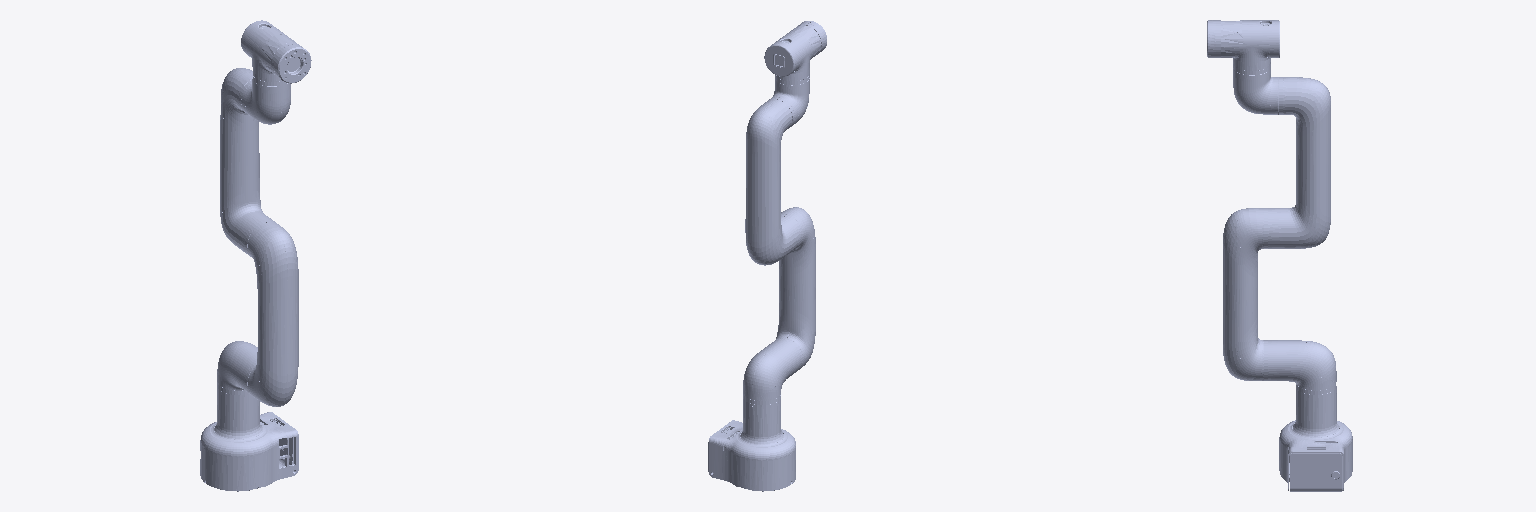
The robot description file, URDF, robot "test_robot":
<?xml version="1.0" encoding="utf-8"?>
<!-- This URDF was automatically created by SolidWorks to URDF Exporter! Originally created by [author] ([email redacted]) 
     Commit Version: 1.6.0-4-g7f85cfe  Build Version: 1.6.7995.38578
     For more information, please see http://wiki.ros.org/sw_urdf_exporter -->
<robot
  name="test_robot">
  <link
    name="base">
    <inertial>
      <origin
        xyz="0.0059247 0.00038939 0.081233"
        rpy="0 0 0" />
      <mass
        value="0.64986" />
      <inertia
        ixx="0.0016013"
        ixy="-8.3465E-06"
        ixz="-6.8717E-05"
        iyy="0.0015167"
        iyz="5.7288E-07"
        izz="0.00094318" />
    </inertial>
    <visual>
      <origin
        xyz="0 0 0"
        rpy="0 0 0" />
      <geometry>
        <mesh
          filename="package://test_robot/meshes/base.STL" />
      </geometry>
      <material
        name="">
        <color
          rgba="0.79216 0.81961 0.93333 1" />
      </material>
    </visual>
    <collision>
      <origin
        xyz="0 0 0"
        rpy="0 0 0" />
      <geometry>
        <mesh
          filename="package://test_robot/meshes/base.STL" />
      </geometry>
    </collision>
  </link>
  <link
    name="link1">
    <inertial>
      <origin
        xyz="2.4493E-06 -0.031713 0.033046"
        rpy="0 0 0" />
      <mass
        value="0.23299" />
      <inertia
        ixx="0.00035206"
        ixy="2.8167E-08"
        ixz="-6.371E-09"
        iyy="0.00022967"
        iyz="5.3618E-05"
        izz="0.00033368" />
    </inertial>
    <visual>
      <origin
        xyz="0 0 0"
        rpy="0 0 0" />
      <geometry>
        <mesh
          filename="package://test_robot/meshes/link1.STL" />
      </geometry>
      <material
        name="">
        <color
          rgba="0.79216 0.81961 0.93333 1" />
      </material>
    </visual>
    <collision>
      <origin
        xyz="0 0 0"
        rpy="0 0 0" />
      <geometry>
        <mesh
          filename="package://test_robot/meshes/link1.STL" />
      </geometry>
    </collision>
  </link>
  <joint
    name="joint1"
    type="revolute">
    <origin
      xyz="0.0010791 0 0.1691"
      rpy="0 0 0" />
    <parent
      link="base" />
    <child
      link="link1" />
    <axis
      xyz="0 0 1" />
    <limit
      lower="0"
      upper="6.28"
      effort="1000"
      velocity="0" />
  </joint>
  <link
    name="link2">
    <inertial>
      <origin
        xyz="1.6533223458829E-06 -0.0377616290355559 0.125416438182743"
        rpy="0 0 0" />
      <mass
        value="0.46702438959036" />
      <inertia
        ixx="0.00331762125145106"
        ixy="-1.59317816274483E-08"
        ixz="-6.28906986662299E-08"
        iyy="0.00339461312876504"
        iyz="1.29421863702007E-07"
        izz="0.00029498048933846" />
    </inertial>
    <visual>
      <origin
        xyz="0 0 0"
        rpy="0 0 0" />
      <geometry>
        <mesh
          filename="package://test_robot/meshes/link2.STL" />
      </geometry>
      <material
        name="">
        <color
          rgba="0.792156862745098 0.819607843137255 0.933333333333333 1" />
      </material>
    </visual>
    <collision>
      <origin
        xyz="0 0 0"
        rpy="0 0 0" />
      <geometry>
        <mesh
          filename="package://test_robot/meshes/link2.STL" />
      </geometry>
    </collision>
  </link>
  <joint
    name="joint2"
    type="revolute">
    <origin
      xyz="0 -0.0893 0.0402"
      rpy="0 0 0" />
    <parent
      link="link1" />
    <child
      link="link2" />
    <axis
      xyz="0 1 0" />
    <limit
      lower="0"
      upper="6.28"
      effort="1000"
      velocity="0" />
  </joint>
  <link
    name="link3">
    <inertial>
      <origin
        xyz="0.00019825 0.06618 0.12811"
        rpy="0 0 0" />
      <mass
        value="0.61092" />
      <inertia
        ixx="0.0039774"
        ixy="-3.3766E-07"
        ixz="-1.3377E-05"
        iyy="0.0040447"
        iyz="-0.00016327"
        izz="0.00034377" />
    </inertial>
    <visual>
      <origin
        xyz="0 0 0"
        rpy="0 0 0" />
      <geometry>
        <mesh
          filename="package://test_robot/meshes/link3.STL" />
      </geometry>
      <material
        name="">
        <color
          rgba="0.79216 0.81961 0.93333 1" />
      </material>
    </visual>
    <collision>
      <origin
        xyz="0 0 0"
        rpy="0 0 0" />
      <geometry>
        <mesh
          filename="package://test_robot/meshes/link3.STL" />
      </geometry>
    </collision>
  </link>
  <joint
    name="joint3"
    type="revolute">
    <origin
      xyz="0 0.0077997 0.25"
      rpy="0 0 0" />
    <parent
      link="link2" />
    <child
      link="link3" />
    <axis
      xyz="0 1 0" />
    <limit
      lower="0"
      upper="6.28"
      effort="1000"
      velocity="0" />
  </joint>
  <link
    name="link4">
    <inertial>
      <origin
        xyz="-0.00045113 -0.042013 0.019705"
        rpy="0 0 0" />
      <mass
        value="0.14393" />
      <inertia
        ixx="7.662E-05"
        ixy="-1.0863E-07"
        ixz="6.1731E-07"
        iyy="6.5183E-05"
        iyz="5.4312E-06"
        izz="9.6955E-05" />
    </inertial>
    <visual>
      <origin
        xyz="0 0 0"
        rpy="0 0 0" />
      <geometry>
        <mesh
          filename="package://test_robot/meshes/link4.STL" />
      </geometry>
      <material
        name="">
        <color
          rgba="0.79216 0.81961 0.93333 1" />
      </material>
    </visual>
    <collision>
      <origin
        xyz="0 0 0"
        rpy="0 0 0" />
      <geometry>
        <mesh
          filename="package://test_robot/meshes/link4.STL" />
      </geometry>
    </collision>
  </link>
  <joint
    name="joint4"
    type="revolute">
    <origin
      xyz="0 0.0175 0.25"
      rpy="0 0 0" />
    <parent
      link="link3" />
    <child
      link="link4" />
    <axis
      xyz="0 1 0" />
    <limit
      lower="0"
      upper="6.28"
      effort="1000"
      velocity="0" />
  </joint>
  <link
    name="link5">
    <inertial>
      <origin
        xyz="0.00016308 -0.0036813 0.043119"
        rpy="0 0 0" />
      <mass
        value="0.15541" />
      <inertia
        ixx="0.00010054"
        ixy="3.7552E-07"
        ixz="-1.353E-07"
        iyy="0.0001099"
        iyz="1.6835E-05"
        izz="9.3028E-05" />
    </inertial>
    <visual>
      <origin
        xyz="0 0 0"
        rpy="0 0 0" />
      <geometry>
        <mesh
          filename="package://test_robot/meshes/link5.STL" />
      </geometry>
      <material
        name="">
        <color
          rgba="0.79216 0.81961 0.93333 1" />
      </material>
    </visual>
    <collision>
      <origin
        xyz="0 0 0"
        rpy="0 0 0" />
      <geometry>
        <mesh
          filename="package://test_robot/meshes/link5.STL" />
      </geometry>
    </collision>
  </link>
  <joint
    name="joint5"
    type="revolute">
    <origin
      xyz="0 -0.0455 0.0615"
      rpy="0 0 0" />
    <parent
      link="link4" />
    <child
      link="link5" />
    <axis
      xyz="0 0 -1" />
    <limit
      lower="0"
      upper="6.28"
      effort="1000"
      velocity="0" />
  </joint>
  <link
    name="link6">
    <inertial>
      <origin
        xyz="-2.7125E-05 -0.0037192 -8.0334E-05"
        rpy="0 0 0" />
      <mass
        value="0.060165" />
      <inertia
        ixx="1.8241E-05"
        ixy="-1.3435E-08"
        ixz="-1.3075E-09"
        iyy="3.2258E-05"
        iyz="-3.7151E-08"
        izz="1.8333E-05" />
    </inertial>
    <visual>
      <origin
        xyz="0 0 0"
        rpy="0 0 0" />
      <geometry>
        <mesh
          filename="package://test_robot/meshes/link6.STL" />
      </geometry>
      <material
        name="">
        <color
          rgba="0.79216 0.81961 0.93333 1" />
      </material>
    </visual>
    <collision>
      <origin
        xyz="0 0 0"
        rpy="0 0 0" />
      <geometry>
        <mesh
          filename="package://test_robot/meshes/link6.STL" />
      </geometry>
    </collision>
  </link>
  <joint
    name="joint6"
    type="revolute">
    <origin
      xyz="0 -0.061297 0.0455"
      rpy="0 0 0" />
    <parent
      link="link5" />
    <child
      link="link6" />
    <axis
      xyz="0 -1 0" />
    <limit
      lower="0"
      upper="6.28"
      effort="1000"
      velocity="0" />
  </joint>
</robot>

--- What the picture shows (computed from the rendered views, not written in the file) ---
Views: 3 orthographic renders of the robot side by side, from view 1: azimuth 30°, elevation 25°; view 2: azimuth 150°, elevation 25°; view 3: azimuth 270°, elevation 25°.
Robot: test_robot — 7 links, 6 joints (6 revolute); root link base; default pose: all joints at 0.
Links seen in each view (by area): view 1: link2, base, link3, link5, link4, link1, link6; view 2: link3, base, link2, link1, link5, link4; view 3: link3, link2, base, link1, link5, link4.
Link boxes in pixels (x1=…): link2: x1=245, y1=220, x2=298, y2=406; base: x1=200, y1=383, x2=298, y2=491; link3: x1=220, y1=68, x2=274, y2=253; link5: x1=241, y1=20, x2=298, y2=81; link4: x1=241, y1=76, x2=290, y2=124; link1: x1=217, y1=341, x2=257, y2=394; link6: x1=274, y1=44, x2=311, y2=83; link3: x1=745, y1=97, x2=800, y2=265; base: x1=708, y1=395, x2=795, y2=491; link2: x1=776, y1=207, x2=815, y2=369; link1: x1=743, y1=338, x2=802, y2=400; link5: x1=764, y1=23, x2=823, y2=80; link4: x1=772, y1=74, x2=809, y2=126; link3: x1=1268, y1=77, x2=1330, y2=248; link2: x1=1223, y1=208, x2=1267, y2=380; base: x1=1279, y1=385, x2=1352, y2=491; link1: x1=1264, y1=340, x2=1336, y2=390; link5: x1=1216, y1=20, x2=1279, y2=70; link4: x1=1233, y1=64, x2=1278, y2=114.
Bounding box of the posed robot: 0.15 × 0.2487 × 0.849 m (x, y, z).
7 mesh visuals loaded from 7 distinct referenced files (7 binary STL).